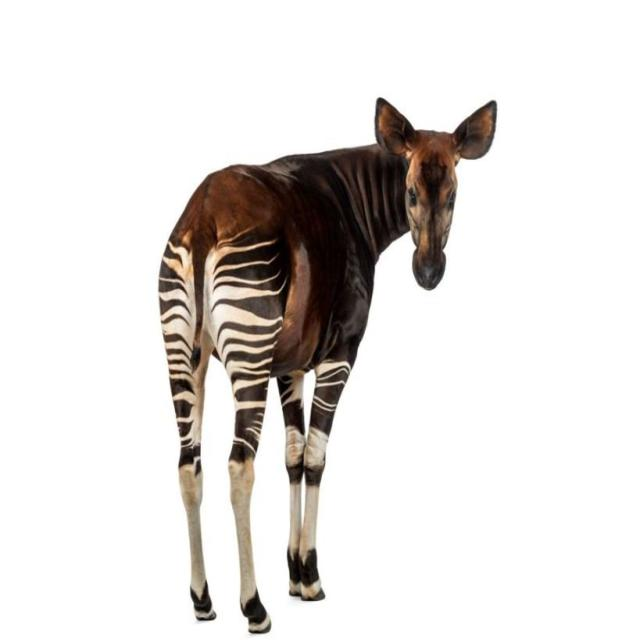Okapi: (140, 86, 500, 638)
